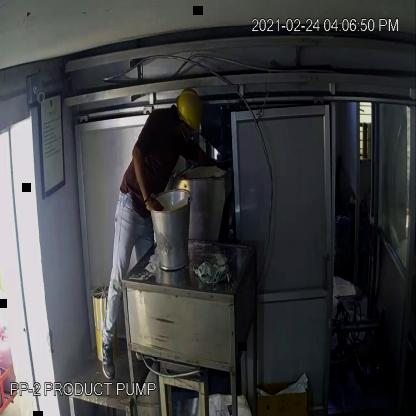helmet: (172, 80, 206, 140)
